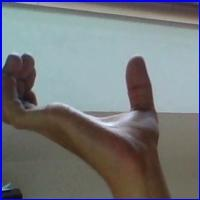B: (5, 41, 173, 179)
